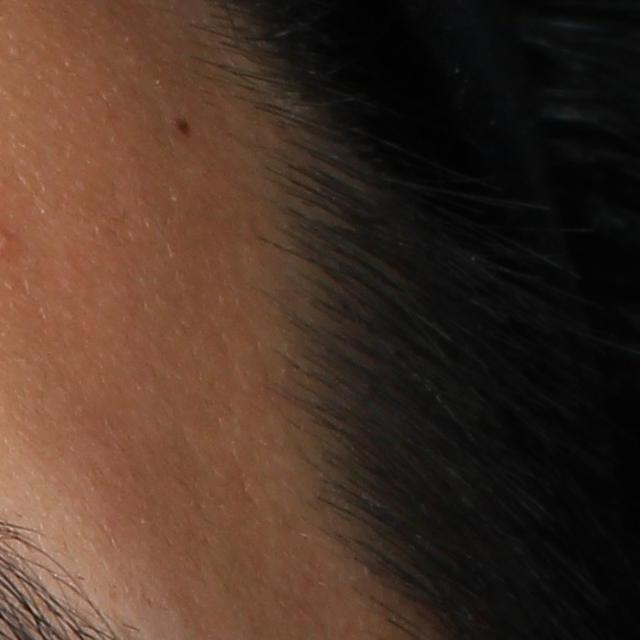nevus: (169, 115, 195, 142)
